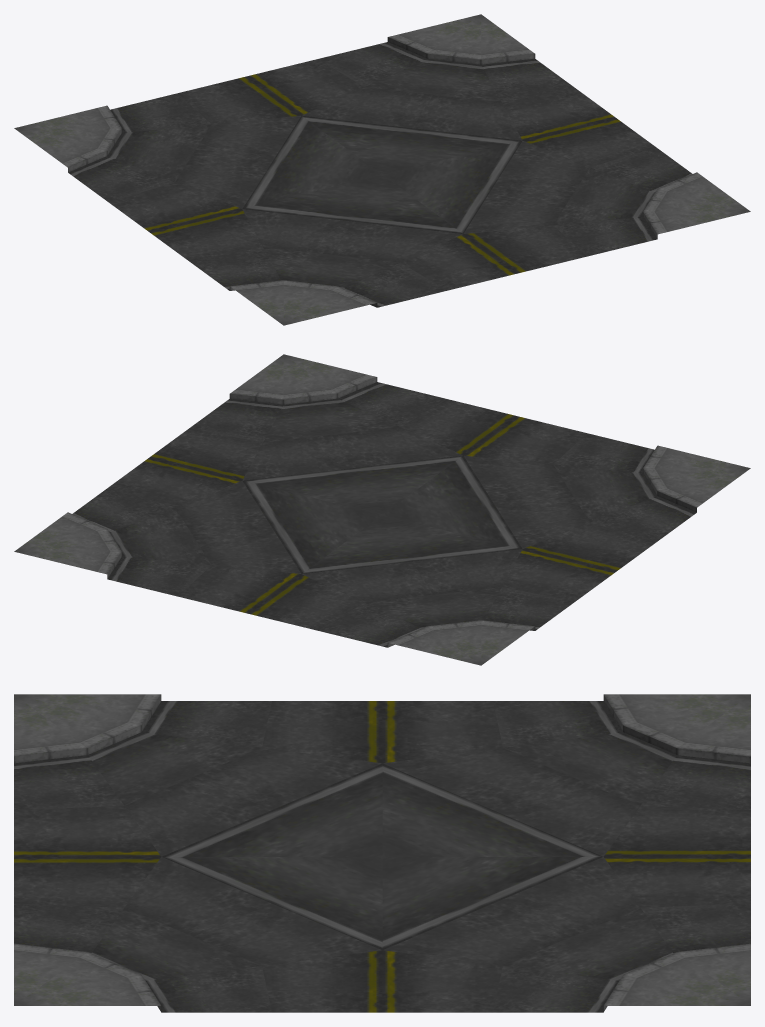
Rendered from road3.fbx.
3 views of the same model, one above another, from view 1: azimuth 30°, elevation 25°; view 2: azimuth 150°, elevation 25°; view 3: azimuth 270°, elevation 25° (orthographic). The views are drawn at different scales.
Parts seen in each view (by area): view 1: road3; view 2: road3; view 3: road3.
Boxes of the visible parts, bbox=[...] form: road3: bbox=[14, 14, 750, 325]; road3: bbox=[14, 354, 750, 665]; road3: bbox=[14, 694, 750, 1012].
Bounding box in the file's own units: 2000 × 2000 × 20.
1 material, 1 textured.
